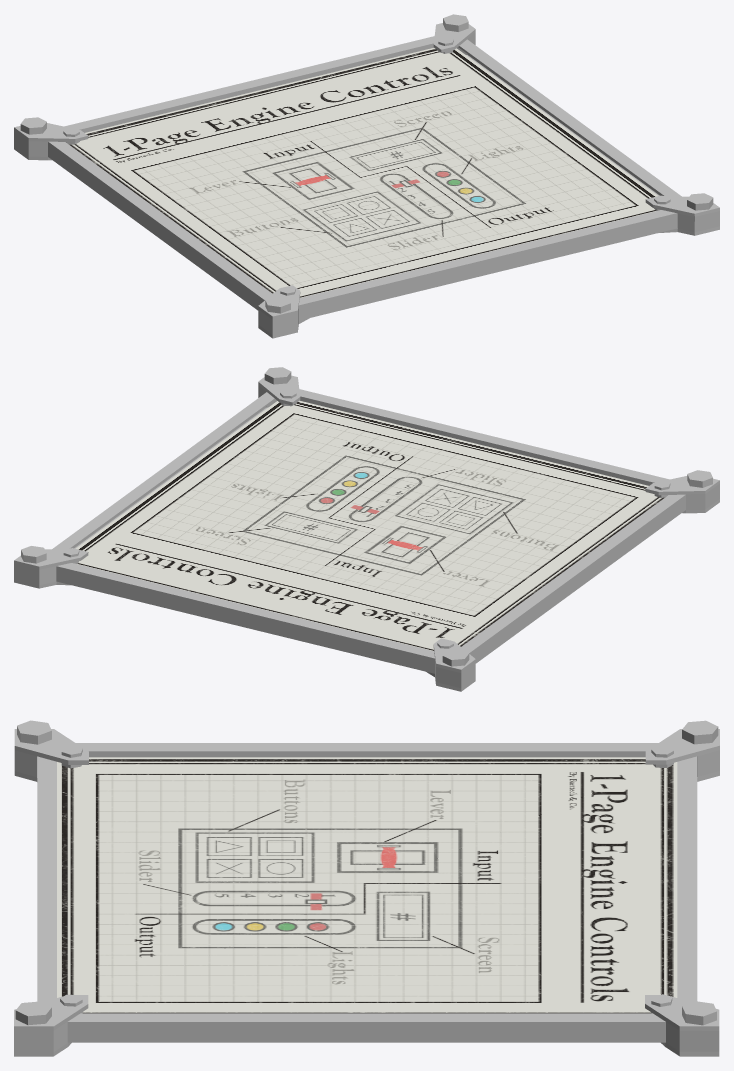
Rendered from SM_EngineCPGuide.FBX.
3 renders of one model, top to bottom at view 1: azimuth 30°, elevation 25°; view 2: azimuth 150°, elevation 25°; view 3: azimuth 270°, elevation 25°, orthographic. The views are drawn at different scales.
Visible parts, largest first — view 1: SM_EngineGuide; view 2: SM_EngineGuide; view 3: SM_EngineGuide.
Boxes of the visible parts, <box> form: SM_EngineGuide: <box>14,14,719,338</box>; SM_EngineGuide: <box>14,367,719,691</box>; SM_EngineGuide: <box>14,720,719,1056</box>.
Size of the model in its own units: 107 by 7.87 by 107.
